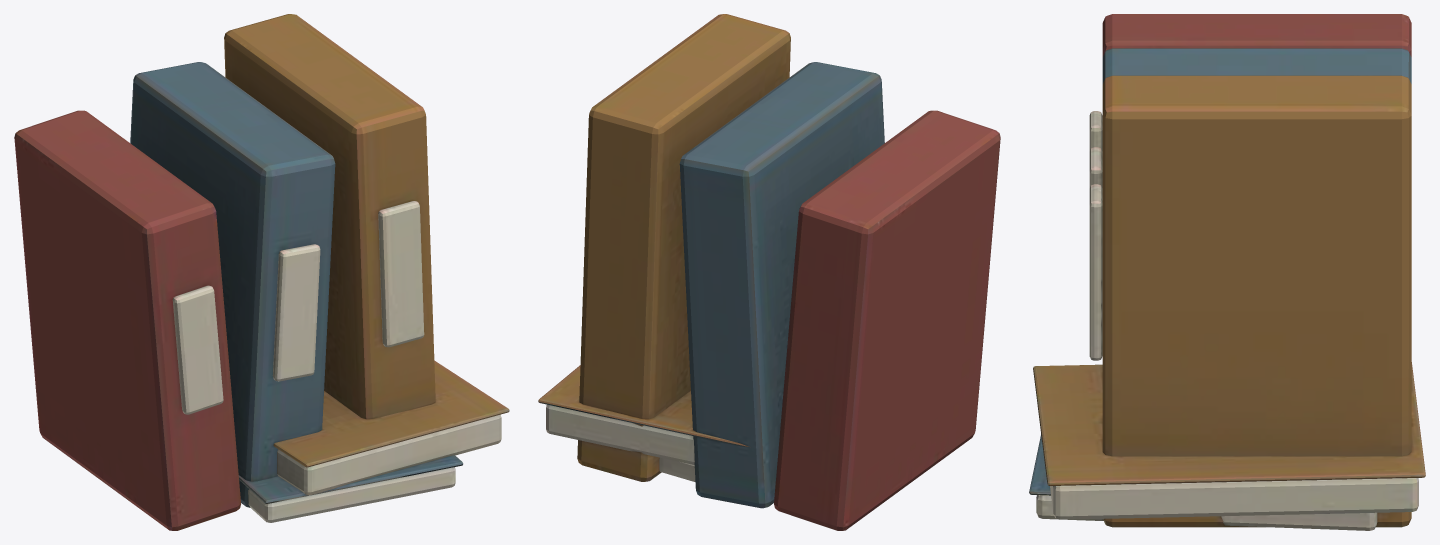
File: dressing-binders.glb
The picture shows the model from 3 angles, left to right: view 1: azimuth 30°, elevation 25°; view 2: azimuth 150°, elevation 25°; view 3: azimuth 270°, elevation 25°; orthographic projection. The views are drawn at different scales.
Parts seen in each view (by area): view 1: case-baked; view 2: case-baked; view 3: case-baked.
Boxes of the visible parts, <box> form: case-baked: <box>14,14,509,530</box>; case-baked: <box>538,14,1000,530</box>; case-baked: <box>1029,14,1425,530</box>.
Size of the model in its own units: 0.2764 by 0.2834 by 0.2439.
Materials: 1 (1 with a texture image).
